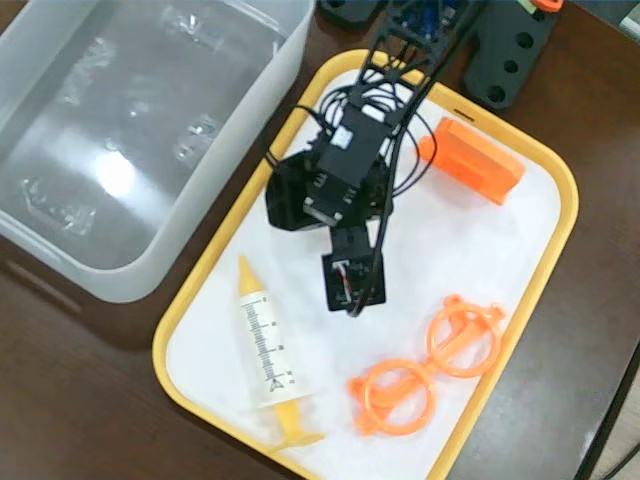syringe: (232, 251, 329, 457)
